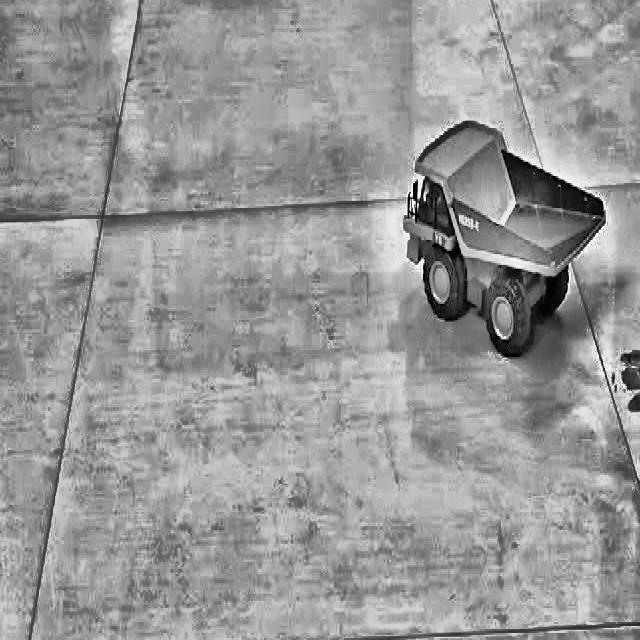dump_truck: (409, 111, 607, 348)
